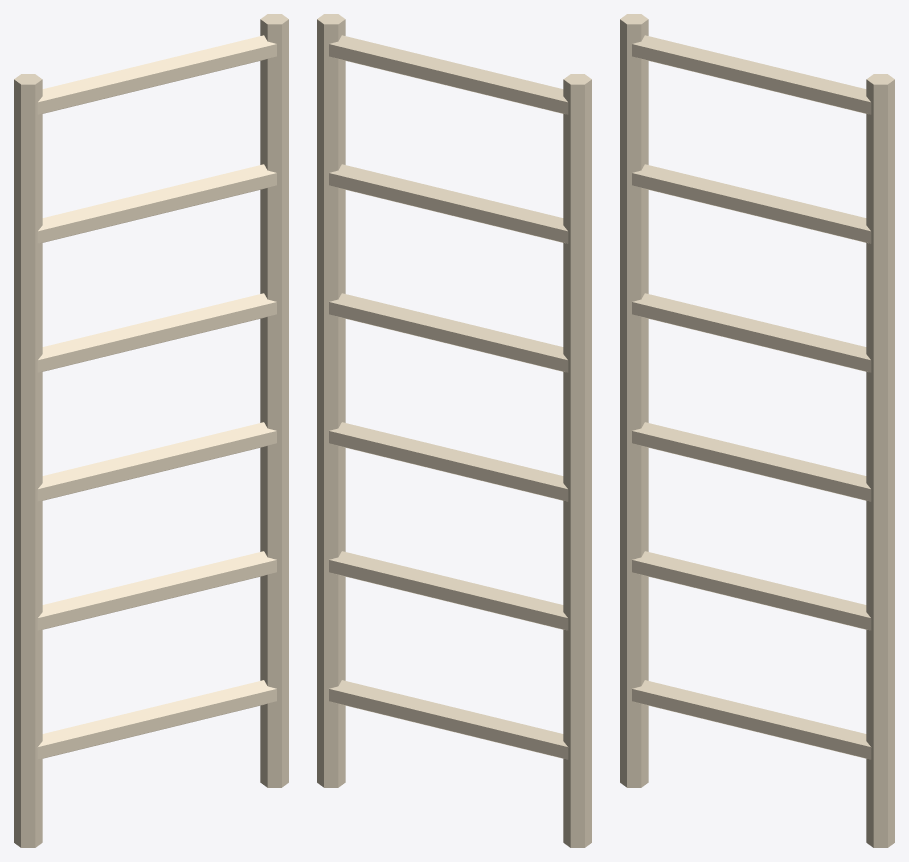
The picture shows the model from 3 angles, left to right: view 1: azimuth 30°, elevation 25°; view 2: azimuth 150°, elevation 25°; view 3: azimuth 330°, elevation 25°; orthographic projection.
Parts seen in each view (by area): view 1: Rail, Rail.001, Rung.001, Rung.002, Rung.003, Rung.004, Rung.005, Rung; view 2: Rail, Rail.001, Rung.001, Rung.002, Rung.003, Rung.004, Rung.005, Rung; view 3: Rail.001, Rail, Rung.001, Rung.002, Rung.003, Rung.004, Rung.005, Rung.
Boxes of the visible parts, x1=… form: Rail: x1=14, y1=74, x2=42, y2=847; Rail.001: x1=260, y1=14, x2=288, y2=787; Rung.001: x1=37, y1=551, x2=276, y2=630; Rung.002: x1=37, y1=422, x2=276, y2=501; Rung.003: x1=37, y1=293, x2=276, y2=372; Rung.004: x1=37, y1=164, x2=276, y2=243; Rung.005: x1=37, y1=35, x2=276, y2=114; Rung: x1=37, y1=680, x2=276, y2=759; Rail: x1=563, y1=74, x2=591, y2=847; Rail.001: x1=317, y1=14, x2=345, y2=787; Rung.001: x1=329, y1=551, x2=568, y2=630; Rung.002: x1=329, y1=422, x2=568, y2=501; Rung.003: x1=329, y1=293, x2=568, y2=372; Rung.004: x1=329, y1=164, x2=568, y2=243; Rung.005: x1=329, y1=35, x2=568, y2=114; Rung: x1=329, y1=680, x2=568, y2=759; Rail.001: x1=866, y1=74, x2=894, y2=847; Rail: x1=620, y1=14, x2=648, y2=787; Rung.001: x1=632, y1=551, x2=871, y2=630; Rung.002: x1=632, y1=422, x2=871, y2=501; Rung.003: x1=632, y1=293, x2=871, y2=372; Rung.004: x1=632, y1=164, x2=871, y2=243; Rung.005: x1=632, y1=35, x2=871, y2=114; Rung: x1=632, y1=680, x2=871, y2=759.
Size of the model in its own units: 0.5433 by 1.48 by 0.05.
Materials: 1 (1 with a texture image).
